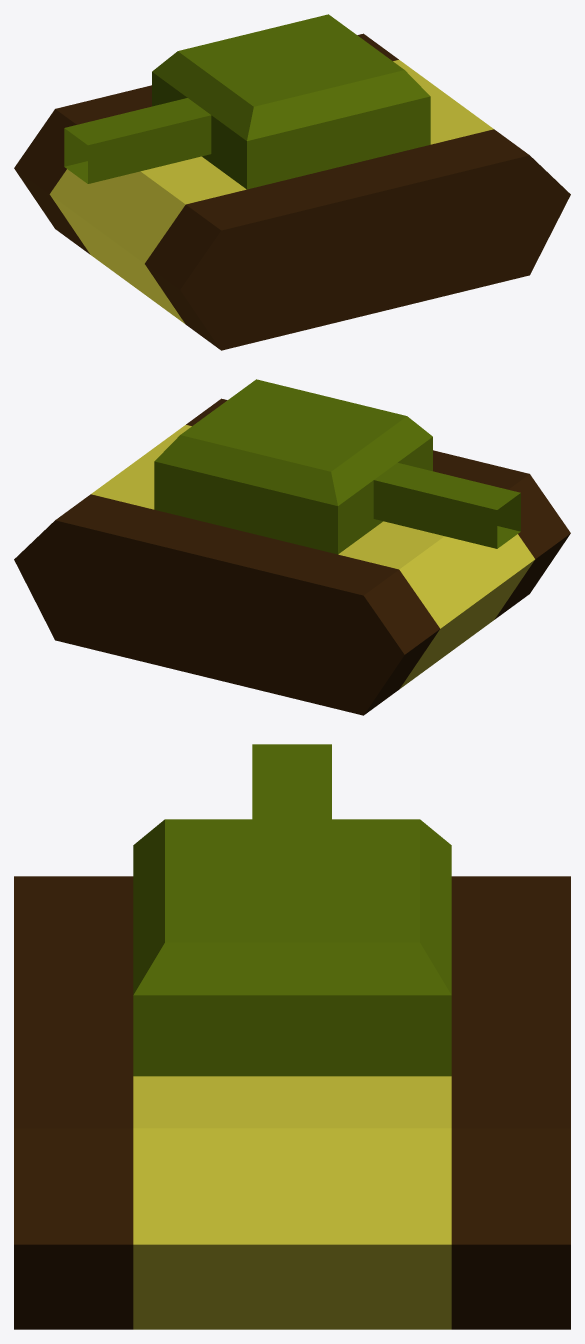
The model's file is tank_2_2.glb.
3 renders of one model, top to bottom at view 1: azimuth 30°, elevation 25°; view 2: azimuth 150°, elevation 25°; view 3: azimuth 270°, elevation 25°, orthographic. The views are drawn at different scales.
Visible parts, largest first — view 1: tank_yellow_2; view 2: tank_yellow_2; view 3: tank_yellow_2.
Boxes of the visible parts, bbox=[...] form: tank_yellow_2: bbox=[14, 14, 570, 350]; tank_yellow_2: bbox=[14, 379, 570, 715]; tank_yellow_2: bbox=[14, 744, 570, 1329].
Bounding box in the file's own units: 2 × 0.8918 × 1.4.
Materials: 1 (1 with a texture image).
